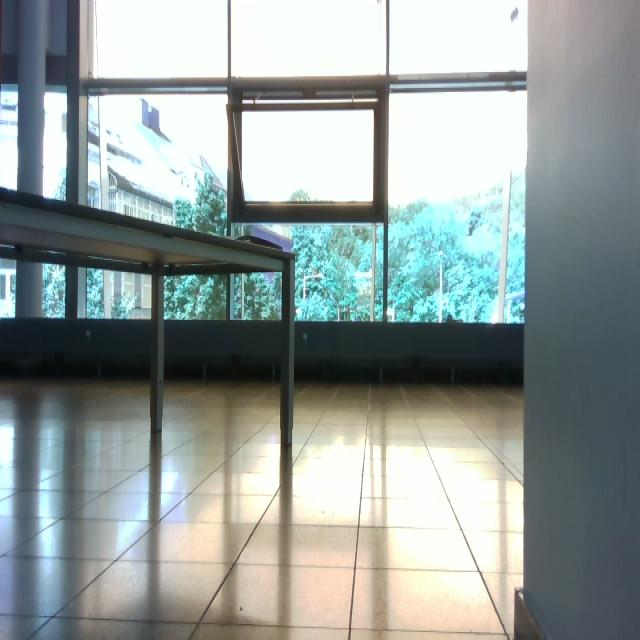door: (155, 267, 289, 444)
light bulb: (302, 271, 323, 320), (509, 6, 518, 22)
pillar: (516, 0, 639, 639)
table: (1, 184, 299, 449)
tiled floor: (0, 376, 524, 637)
